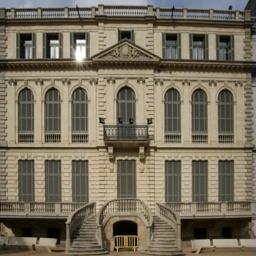building: (0, 5, 256, 256)
